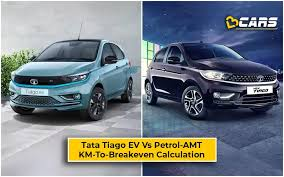Tiago: (5, 36, 136, 124), (144, 39, 280, 123)
